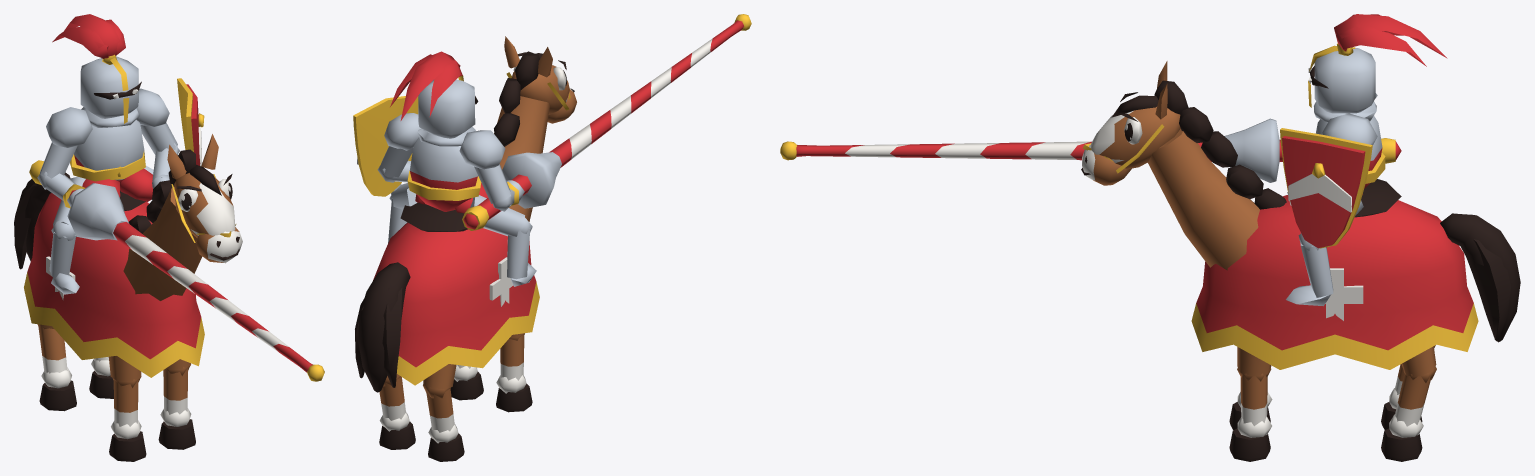
The model's file is horse_rider.glb.
3 renders of one model, left to right at view 1: azimuth 30°, elevation 25°; view 2: azimuth 150°, elevation 25°; view 3: azimuth 270°, elevation 25°, orthographic. The views are drawn at different scales.
Visible parts, largest first — view 1: body, neck, lance, leg_fr, leg_fl, leg_br, tail, leg_bl; view 2: body, lance, neck, tail, leg_br, leg_fr, leg_bl, leg_fl; view 3: body, neck, lance, tail, leg_bl, leg_fl.
Part boxes in pixels (left/top/right/bottom): body: left=24, top=14, right=204, bottom=377; neck: left=123, top=134, right=242, bottom=300; lance: left=29, top=160, right=324, bottom=381; leg_fr: left=108, top=356, right=146, bottom=461; leg_fl: left=158, top=359, right=195, bottom=449; leg_br: left=37, top=324, right=76, bottom=411; tail: left=14, top=172, right=70, bottom=269; leg_bl: left=89, top=357, right=113, bottom=398; body: left=353, top=51, right=539, bottom=385; lance: left=462, top=14, right=751, bottom=230; neck: left=494, top=36, right=576, bottom=221; tail: left=355, top=262, right=410, bottom=392; leg_br: left=423, top=364, right=464, bottom=461; leg_fr: left=496, top=333, right=532, bottom=412; leg_bl: left=379, top=374, right=415, bottom=449; leg_fl: left=450, top=365, right=483, bottom=400; body: left=1191, top=14, right=1478, bottom=369; neck: left=1081, top=61, right=1286, bottom=270; lance: left=780, top=118, right=1401, bottom=182; tail: left=1440, top=213, right=1520, bottom=342; leg_bl: left=1381, top=346, right=1436, bottom=461; leg_fl: left=1229, top=347, right=1271, bottom=461.
Size of the model in its own units: 1.02 by 2.33 by 3.66.
